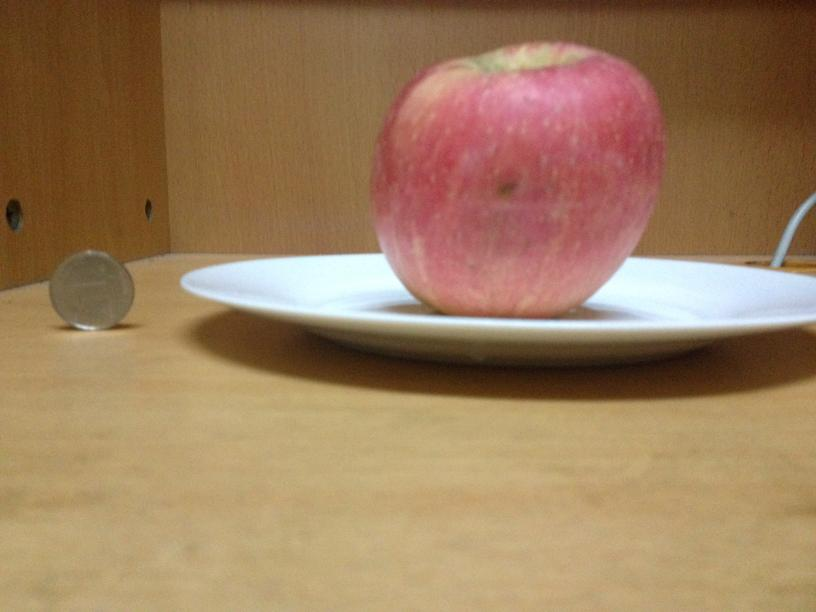apple: (372, 36, 665, 317)
coin: (49, 250, 134, 331)
